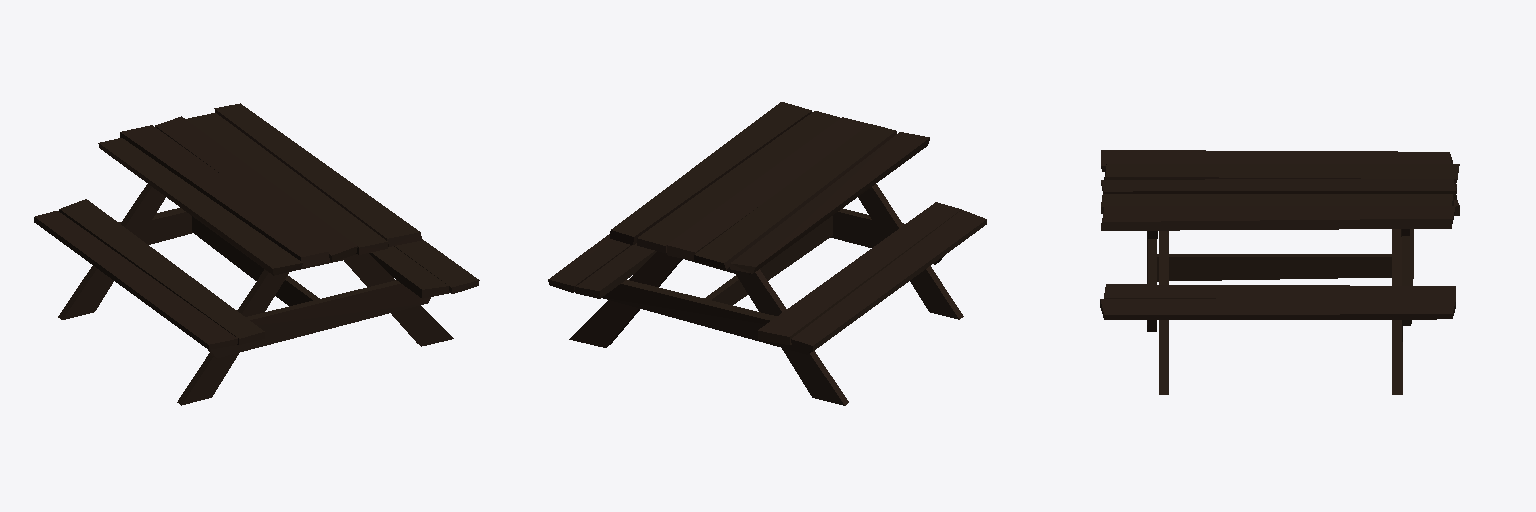
Rendered from big_table.obj.
3 views of the same model, side by side, from view 1: azimuth 30°, elevation 25°; view 2: azimuth 150°, elevation 25°; view 3: azimuth 270°, elevation 25° (orthographic).
Visible parts, largest first — view 1: SM_Camping_PicnicTable; view 2: SM_Camping_PicnicTable; view 3: SM_Camping_PicnicTable.
Part boxes in pixels (bbox=[...]): SM_Camping_PicnicTable: bbox=[34, 103, 479, 405]; SM_Camping_PicnicTable: bbox=[548, 102, 986, 405]; SM_Camping_PicnicTable: bbox=[1100, 150, 1459, 394].
Bounding box in the file's own units: 1.58 × 0.7927 × 1.79.